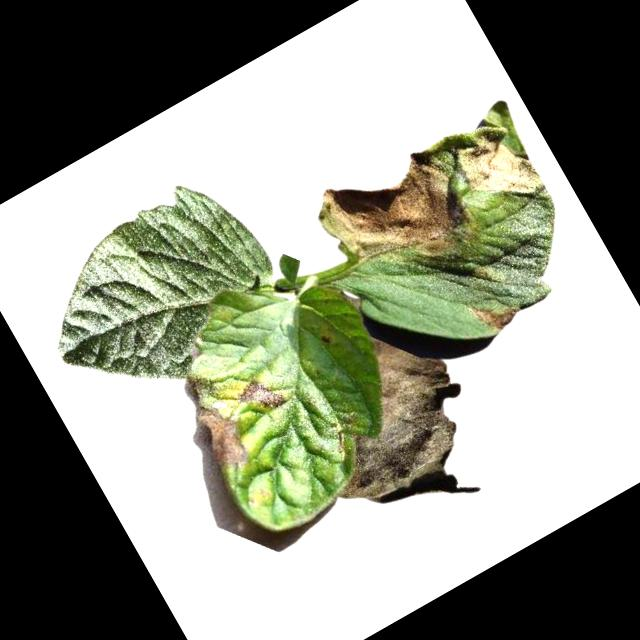Late_blight: (279, 311, 489, 519), (307, 130, 494, 313), (447, 115, 548, 221), (188, 390, 264, 478), (234, 369, 289, 423), (470, 289, 523, 340), (188, 369, 219, 402), (317, 330, 335, 349)
healthy: (15, 164, 302, 427)
